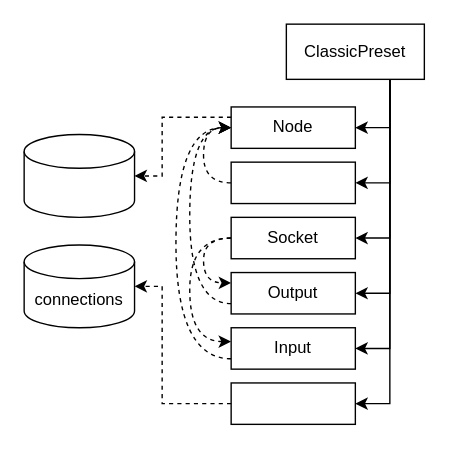
Some shapes in this 449 by 449 pixel diagram are drawn without their labels. The centre of each missing label's shape, as x and y in pixels:
"Connection" goes at point (292, 403).
"Control" goes at point (292, 182).
"nodes" goes at point (79, 175).
